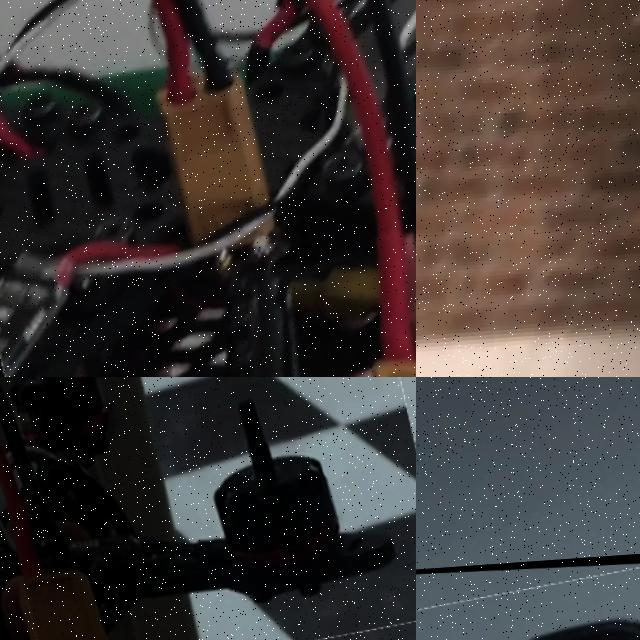drone: (0, 0, 416, 377), (0, 377, 416, 640), (416, 538, 640, 640)
